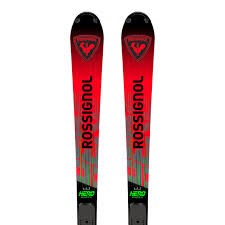skis: (68, 11, 155, 225)
